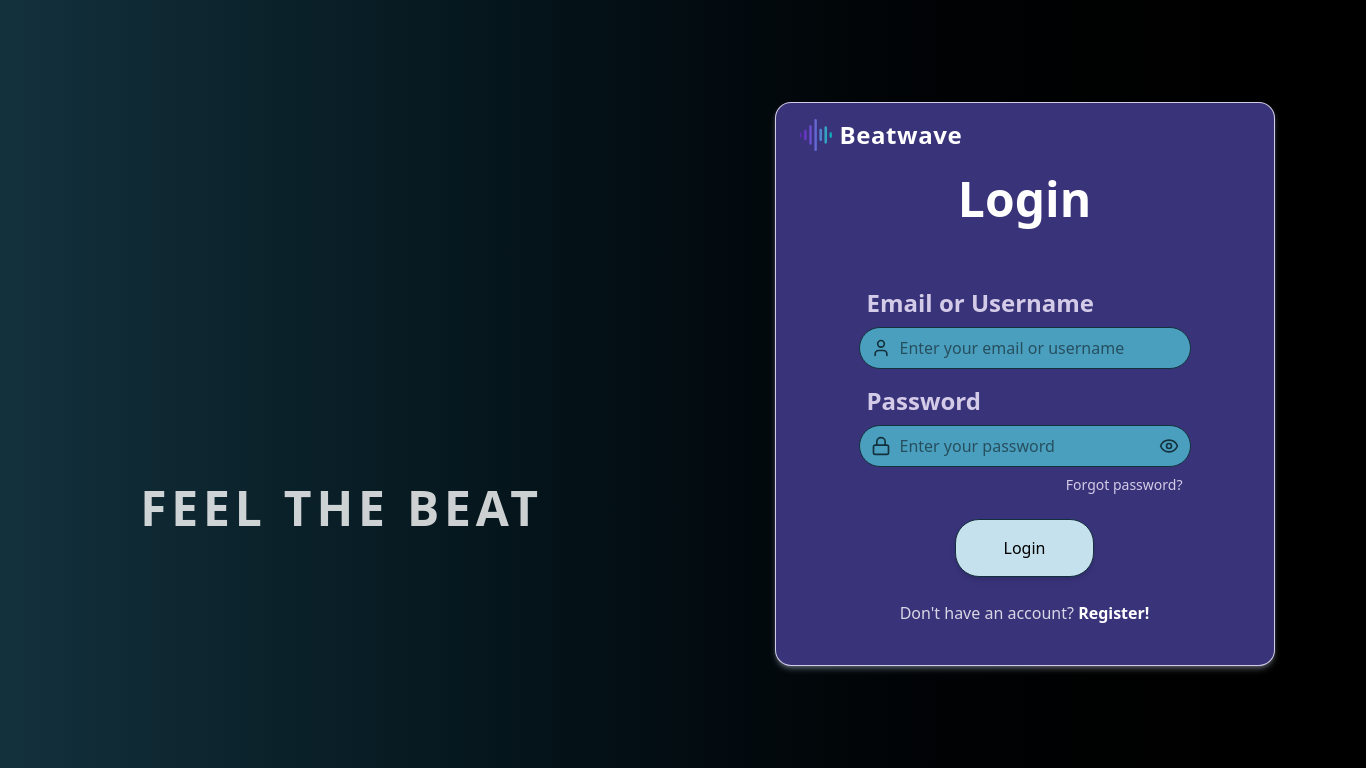
password reset frontend flow › opens forgot-password modal and submits reset email request
Click the button "Forgot password?" at (1124, 485), box left=1066, top=475, right=1182, bottom=495
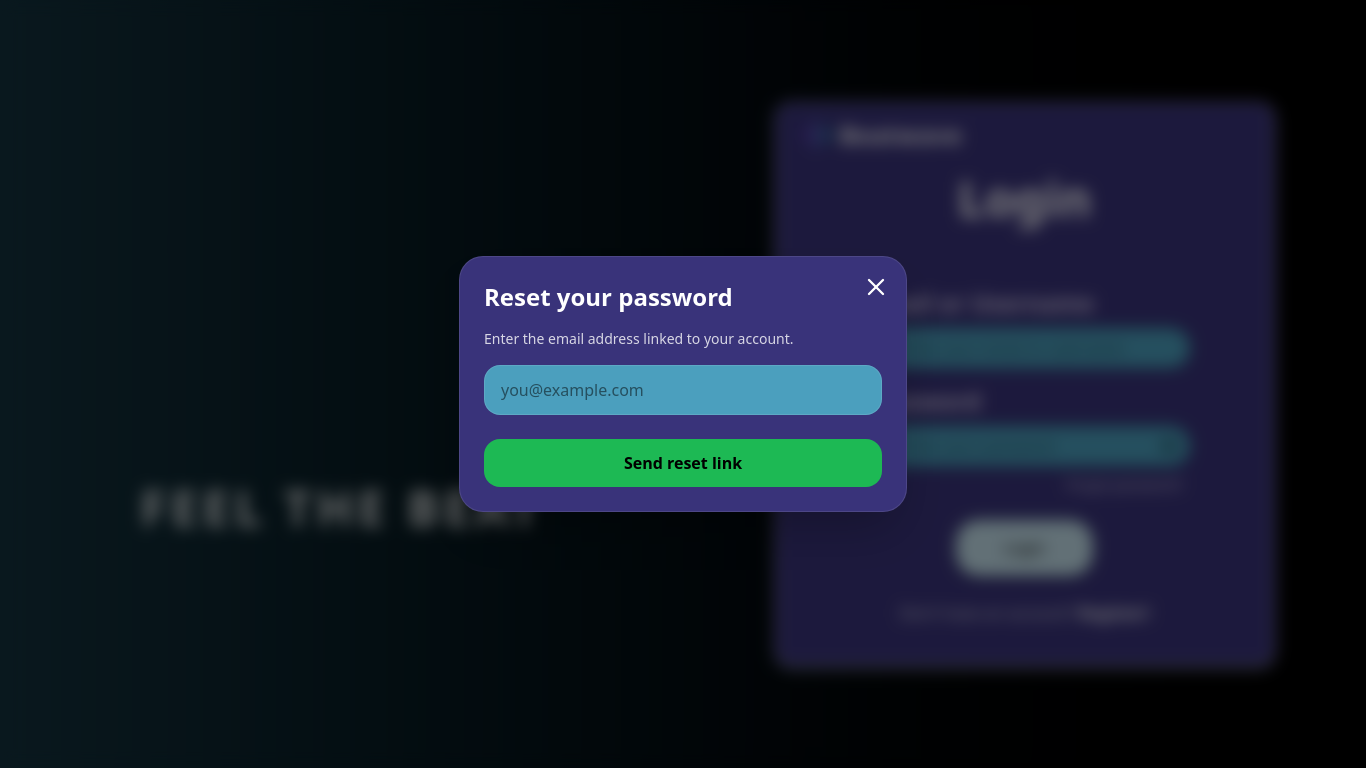
Type "alice@example.com" into the field with placeholder "you@example.com" at (683, 390), box left=484, top=365, right=882, bottom=415
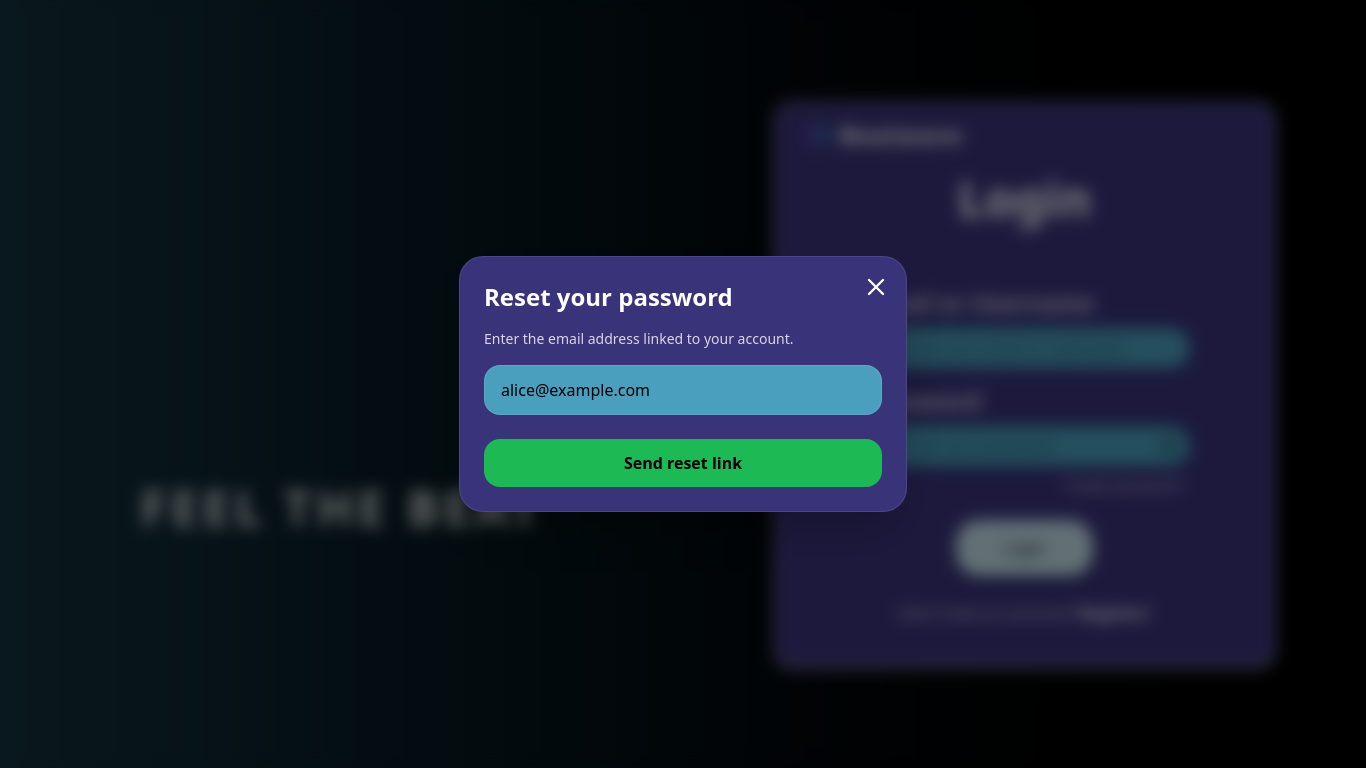
Click the button "Send reset link" at (683, 463), box left=484, top=439, right=882, bottom=487
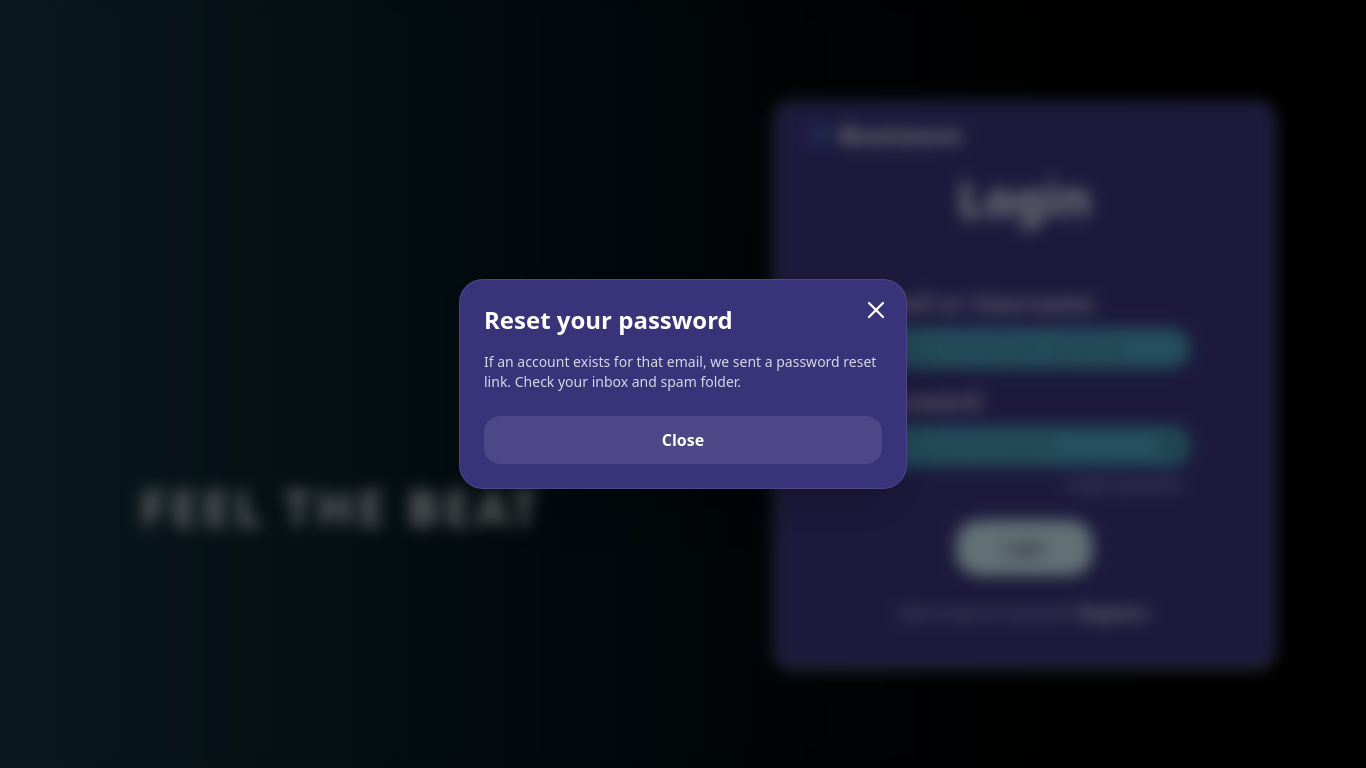
Expected: the text "If an account exists for that email" is shown, left=484, top=352, right=876, bottom=391
